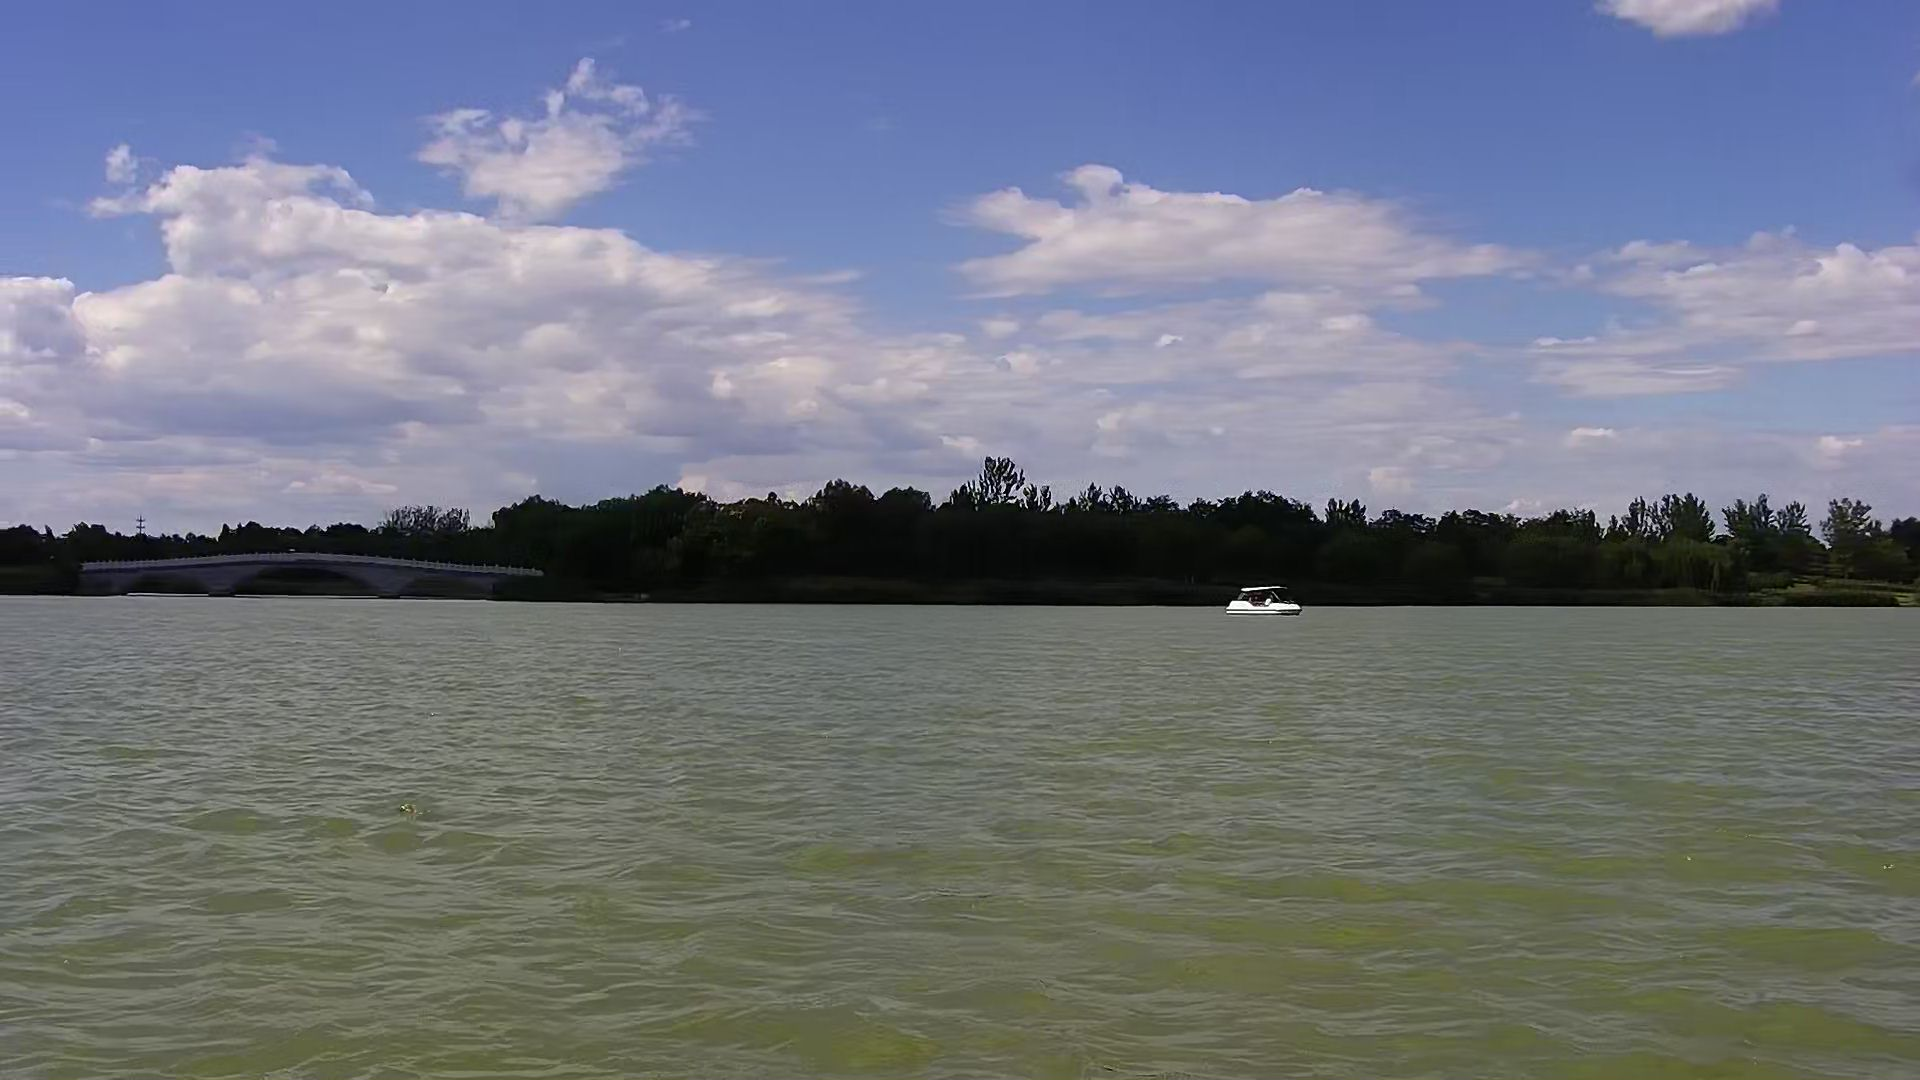boat: (1221, 582, 1307, 621)
bridge: (69, 551, 556, 607)
